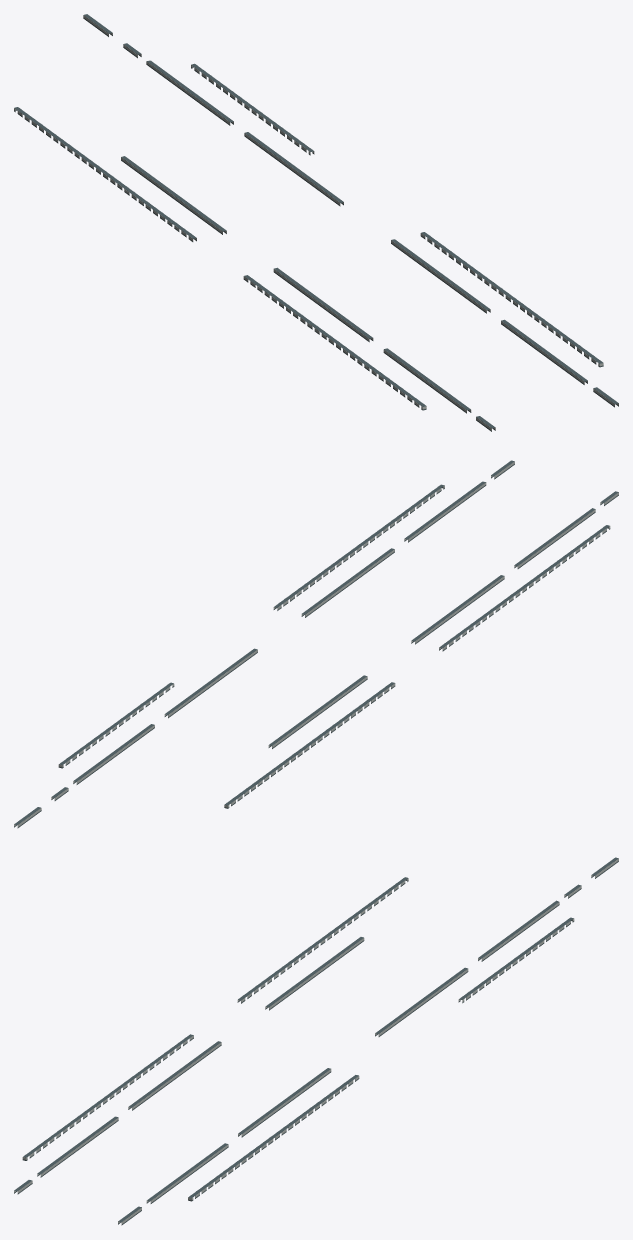
File: AST-STF-G3-056.glb
3 renders of one model, top to bottom at view 1: azimuth 30°, elevation 25°; view 2: azimuth 150°, elevation 25°; view 3: azimuth 330°, elevation 25°, orthographic. The views are drawn at different scales.
Bounding box in the file's own units: 176 × 3.34 × 895.
Materials: 4 (4 with a texture image).
